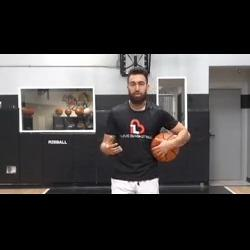BasketBall: (149, 129, 181, 163)
Player: (98, 67, 191, 194)
